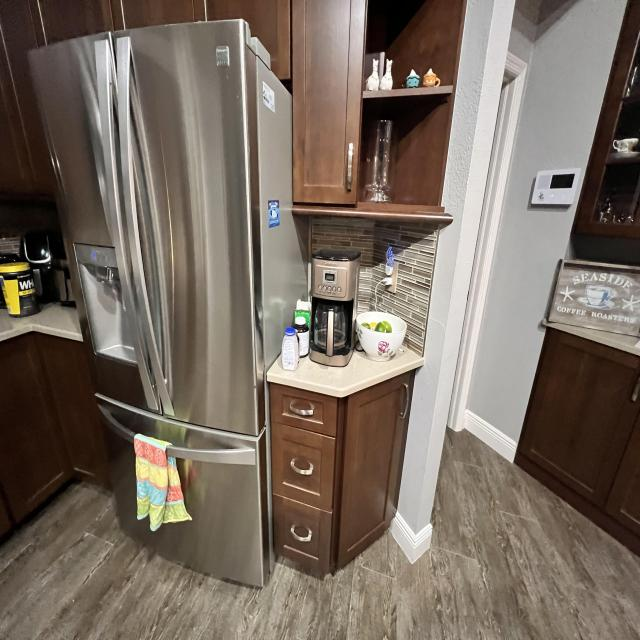Appliance_Fridge: (27, 20, 304, 591)
Cabinet_Glass: (574, 0, 640, 242)
Cabinet_Shaker: (0, 0, 369, 206), (270, 373, 415, 580), (514, 330, 640, 563), (0, 333, 110, 542)
Countertop_Solid_Surface: (266, 350, 426, 398), (546, 322, 640, 357), (0, 306, 83, 342)
